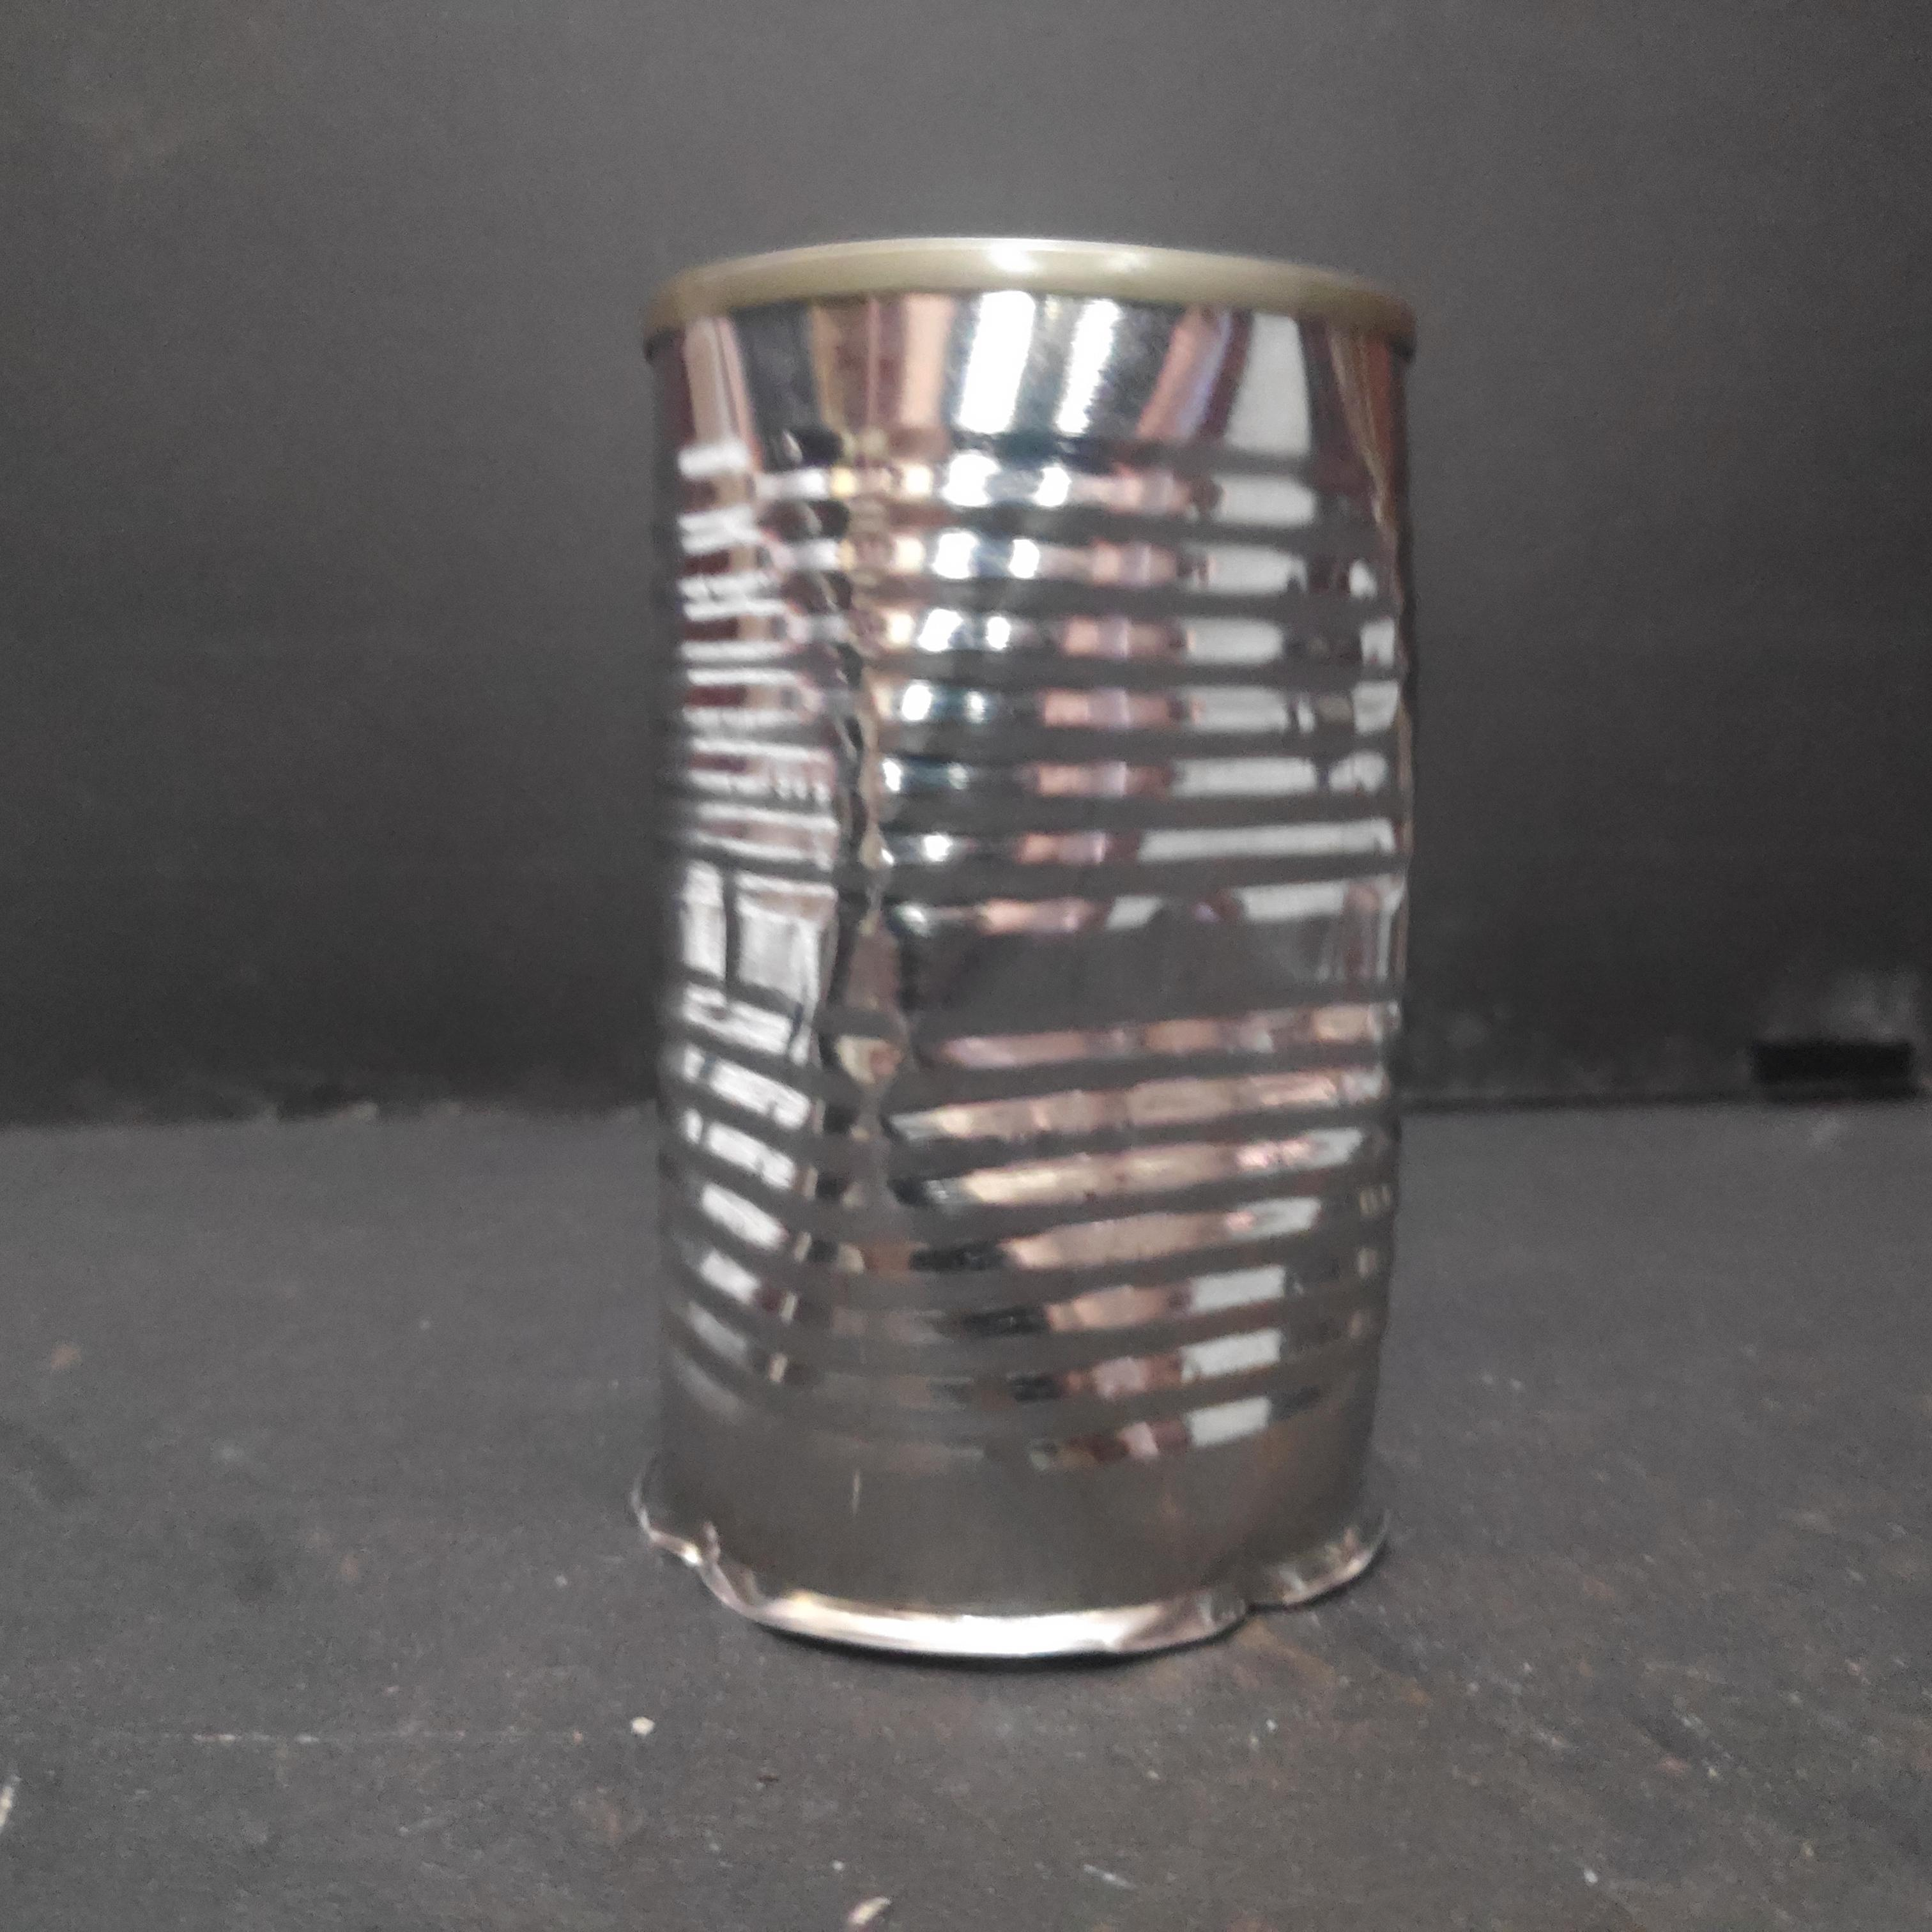Minor Defect: (630, 230, 1430, 1681)
